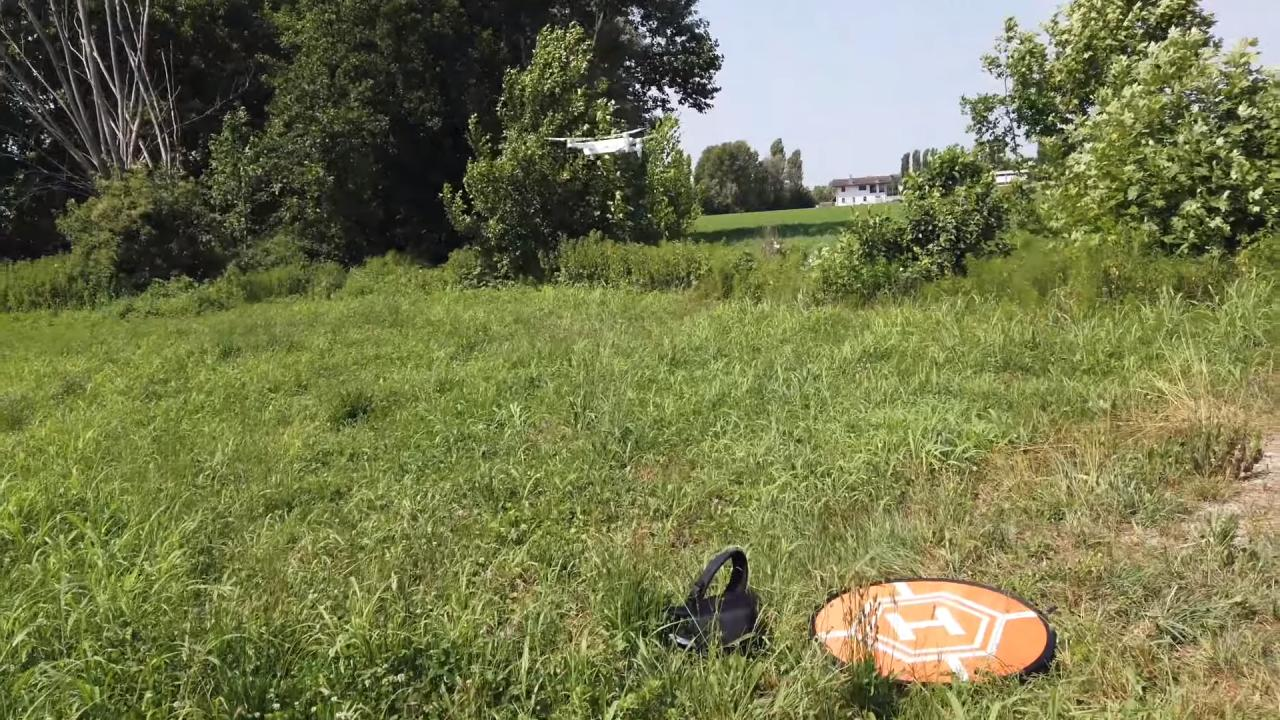Drone: (536, 119, 670, 173)
